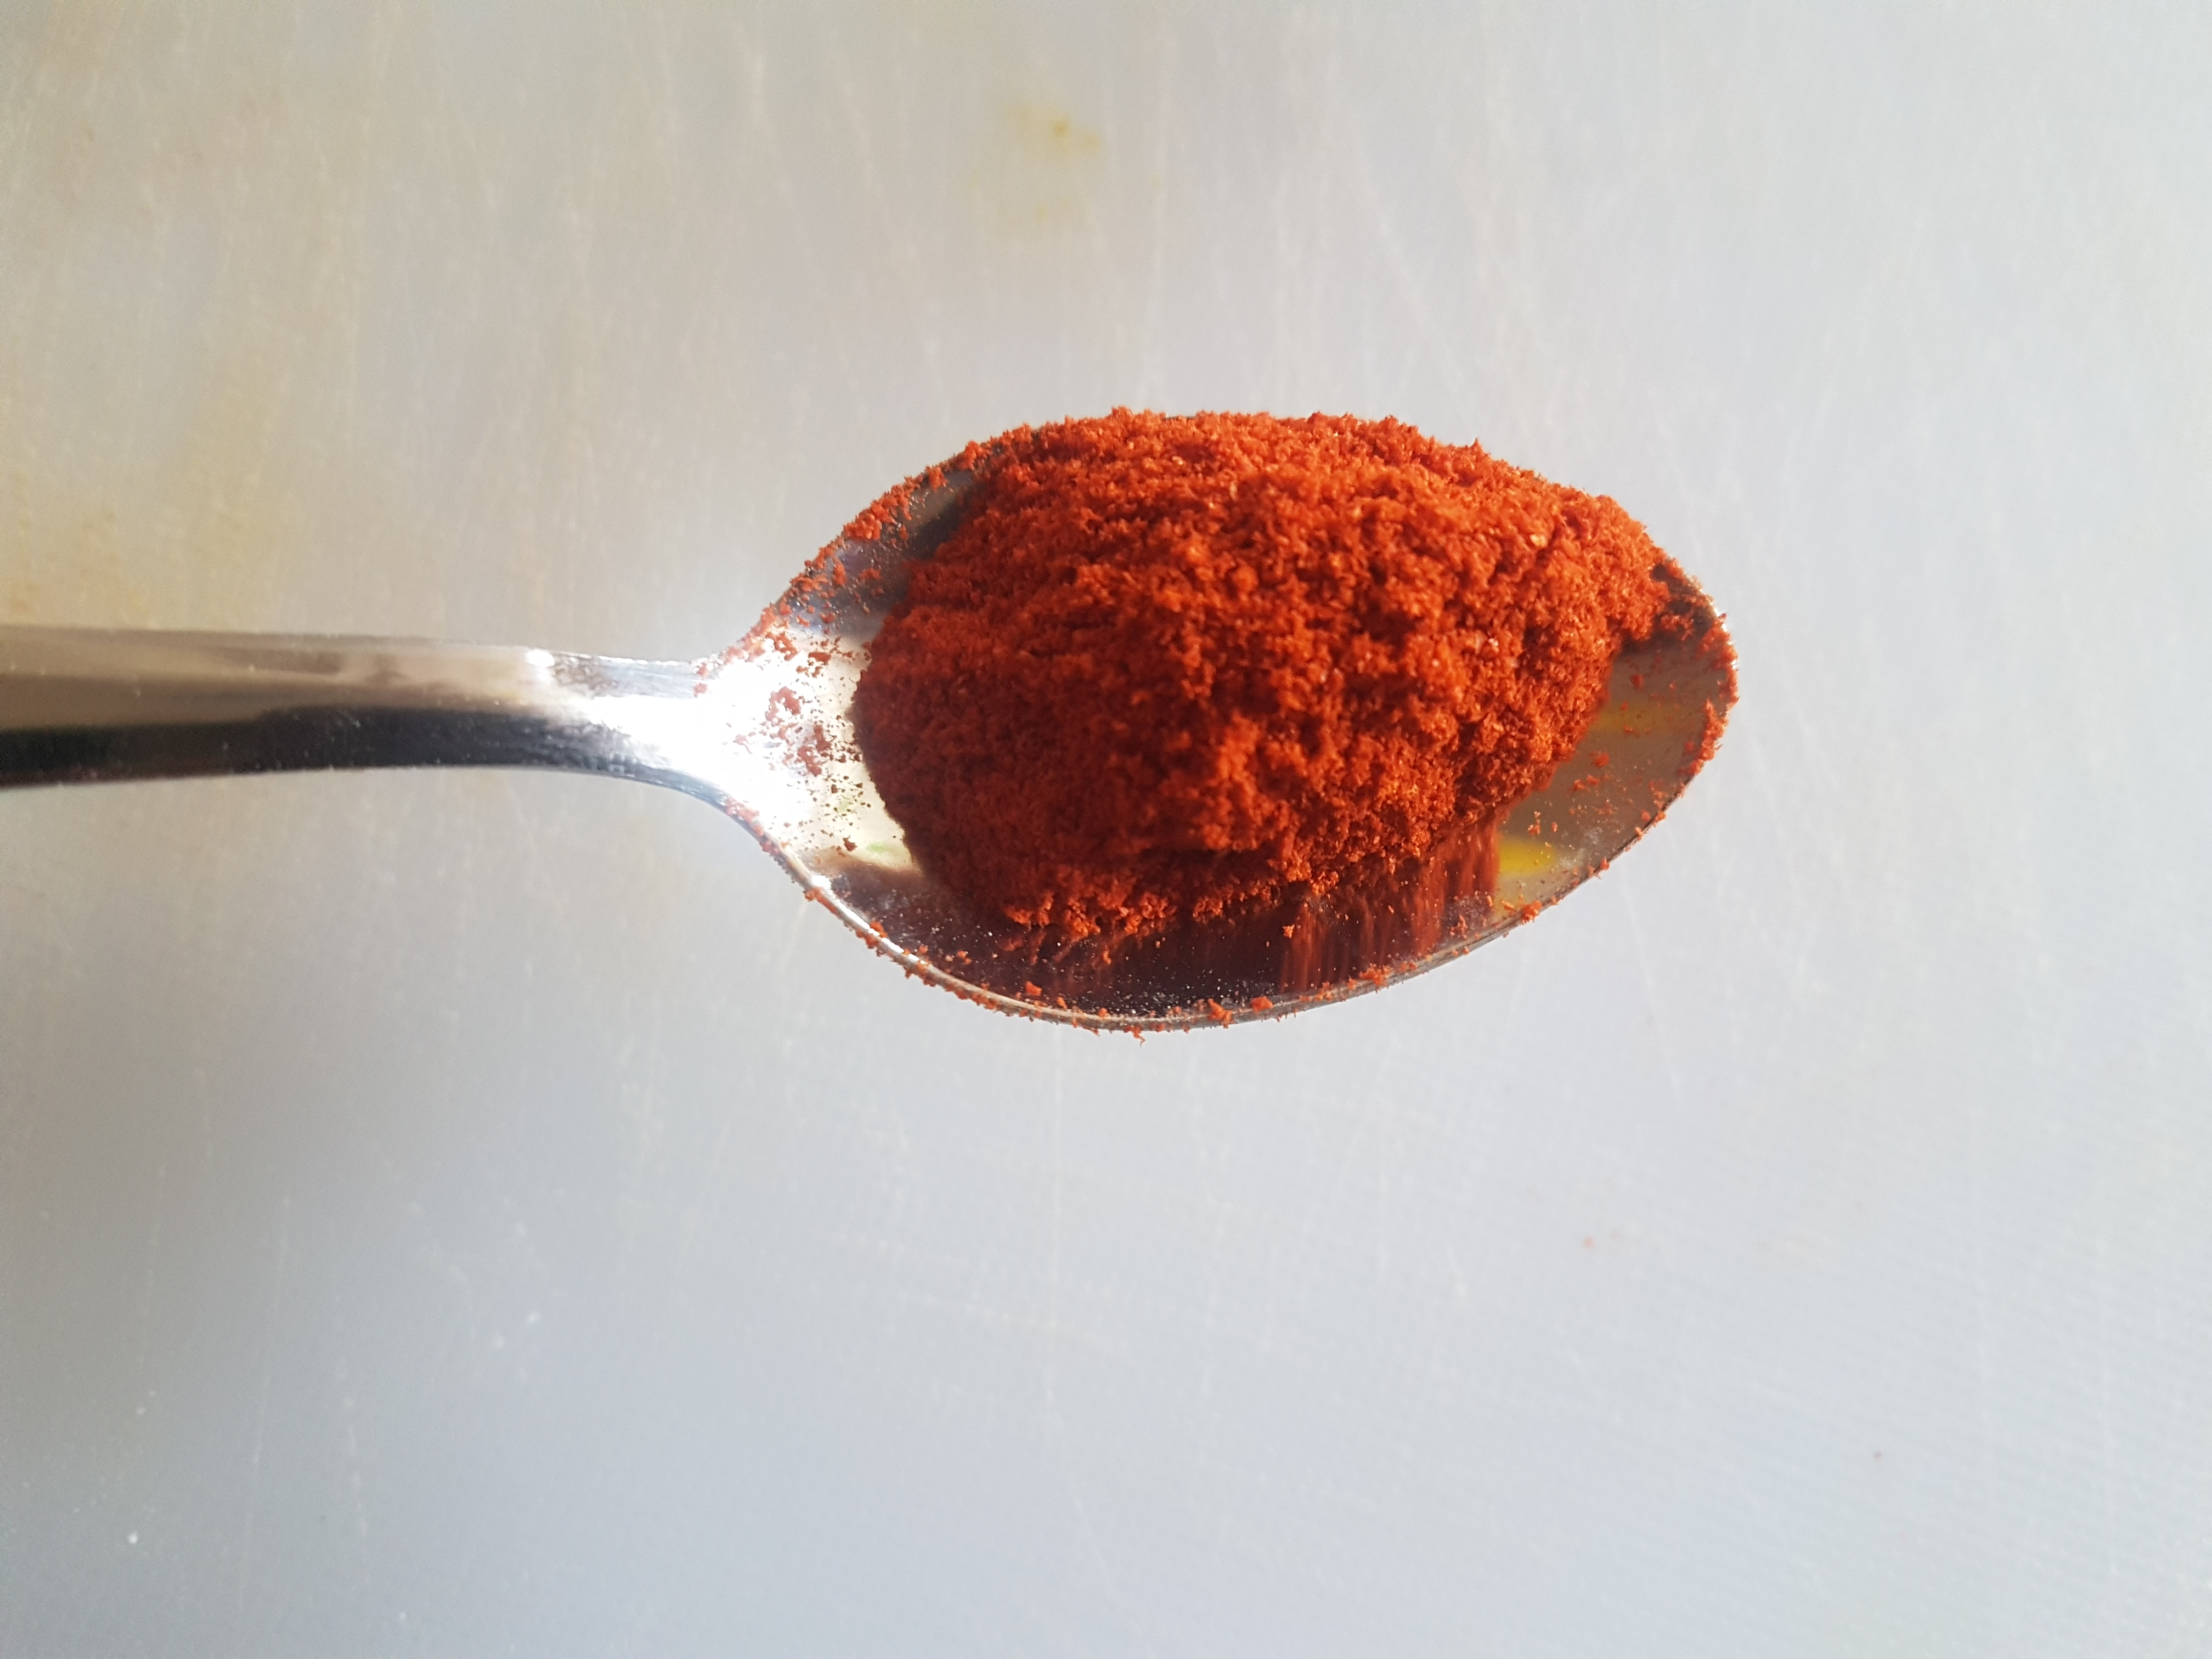Red chilli: (826, 411, 1738, 992)
